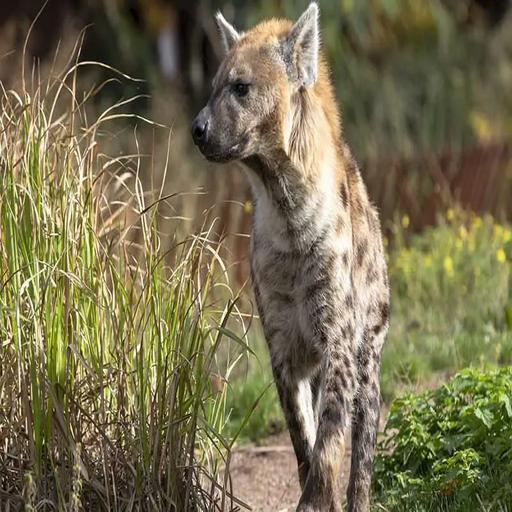Hyena: (192, 3, 400, 509)
